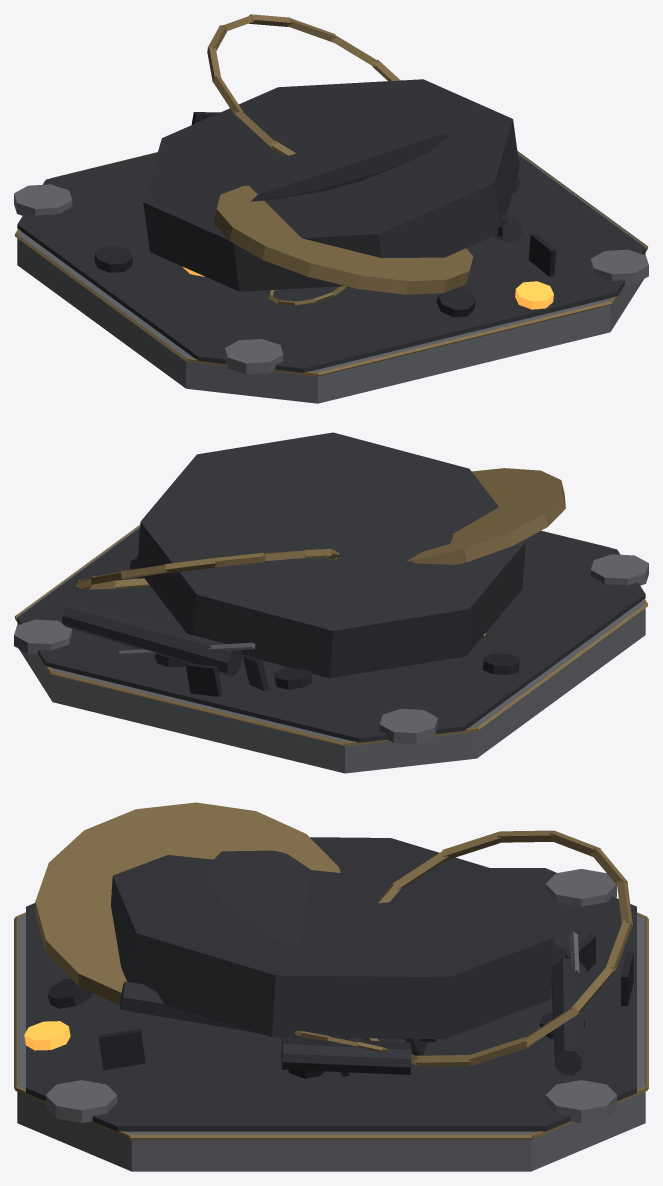
The model's file is Wreck_Aegis_OrbitalLance.fbx.
3 views of the same model, one above another, from view 1: azimuth 30°, elevation 25°; view 2: azimuth 150°, elevation 25°; view 3: azimuth 270°, elevation 25° (orthographic). The views are drawn at different scales.
Visible parts, largest first — view 1: Wreck_Aegis_OrbitalLance; view 2: Wreck_Aegis_OrbitalLance; view 3: Wreck_Aegis_OrbitalLance.
Part boxes in pixels (x1,y1,x2,y2): Wreck_Aegis_OrbitalLance: [14, 14, 648, 403]; Wreck_Aegis_OrbitalLance: [14, 432, 648, 773]; Wreck_Aegis_OrbitalLance: [14, 802, 648, 1171].
Size of the model in its own units: 4.45 by 1.5 by 4.45.
